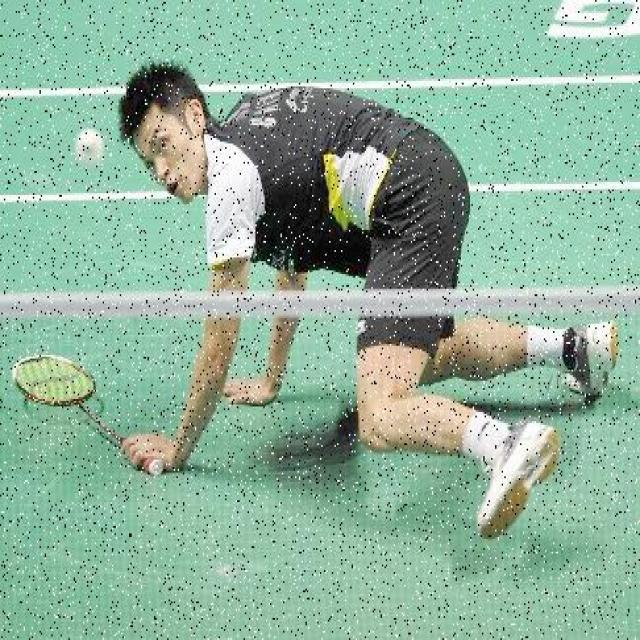fall: (107, 66, 600, 511)
